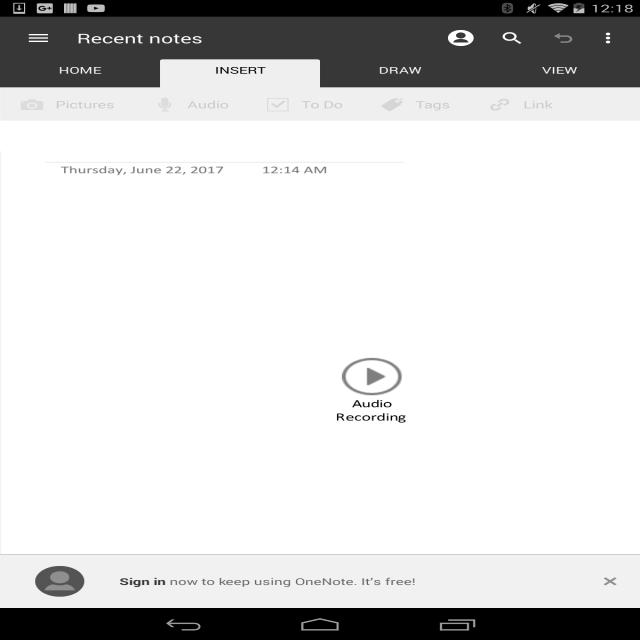ImageButton: (9, 17, 68, 59)
ImageView: (584, 555, 636, 608), (34, 566, 85, 598), (589, 22, 631, 54), (19, 96, 45, 112), (265, 96, 291, 112), (379, 96, 405, 112), (151, 96, 176, 112), (487, 96, 512, 112)
TextView: (120, 575, 584, 588), (76, 29, 202, 47), (487, 22, 538, 54), (436, 22, 486, 54), (538, 22, 588, 54), (56, 98, 114, 111), (214, 64, 266, 76), (187, 98, 229, 111), (301, 98, 343, 111), (378, 64, 422, 76), (59, 64, 101, 76), (416, 98, 450, 111), (542, 64, 577, 76), (523, 98, 553, 111), (0, 88, 1, 120)
